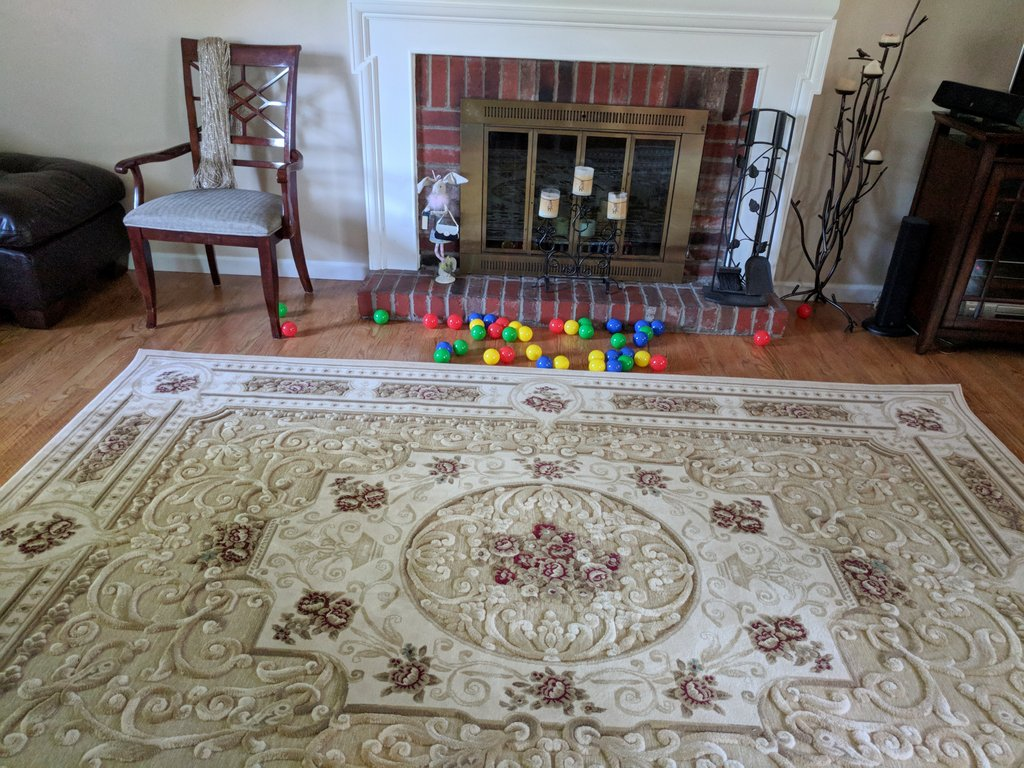ball: (537, 354, 550, 368)
